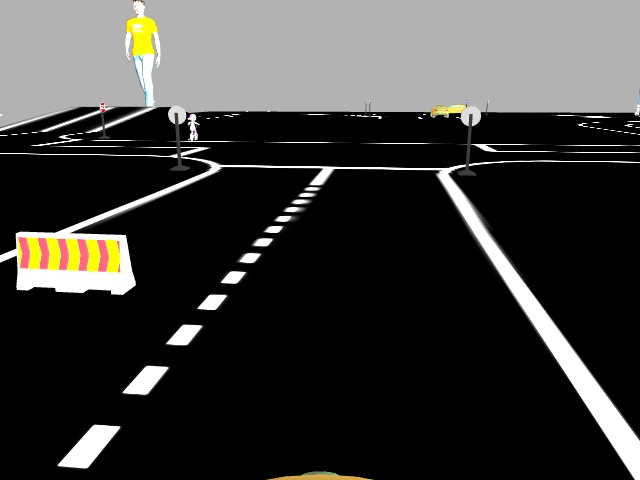ClosedRoadStand: (16, 233, 132, 291)
